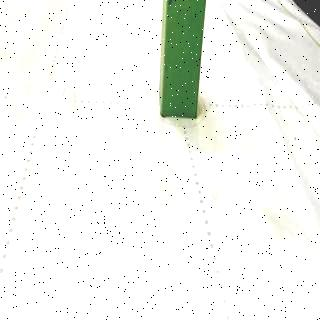greenbox: (161, 0, 208, 119)
